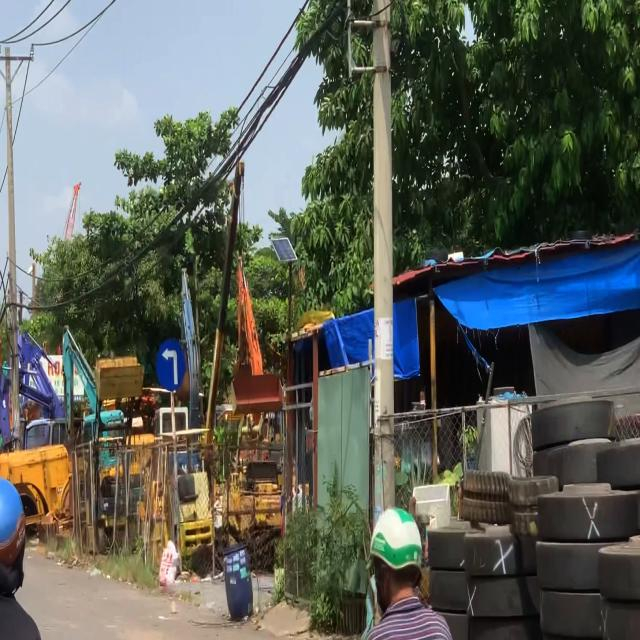Re trai: (155, 337, 187, 394)
